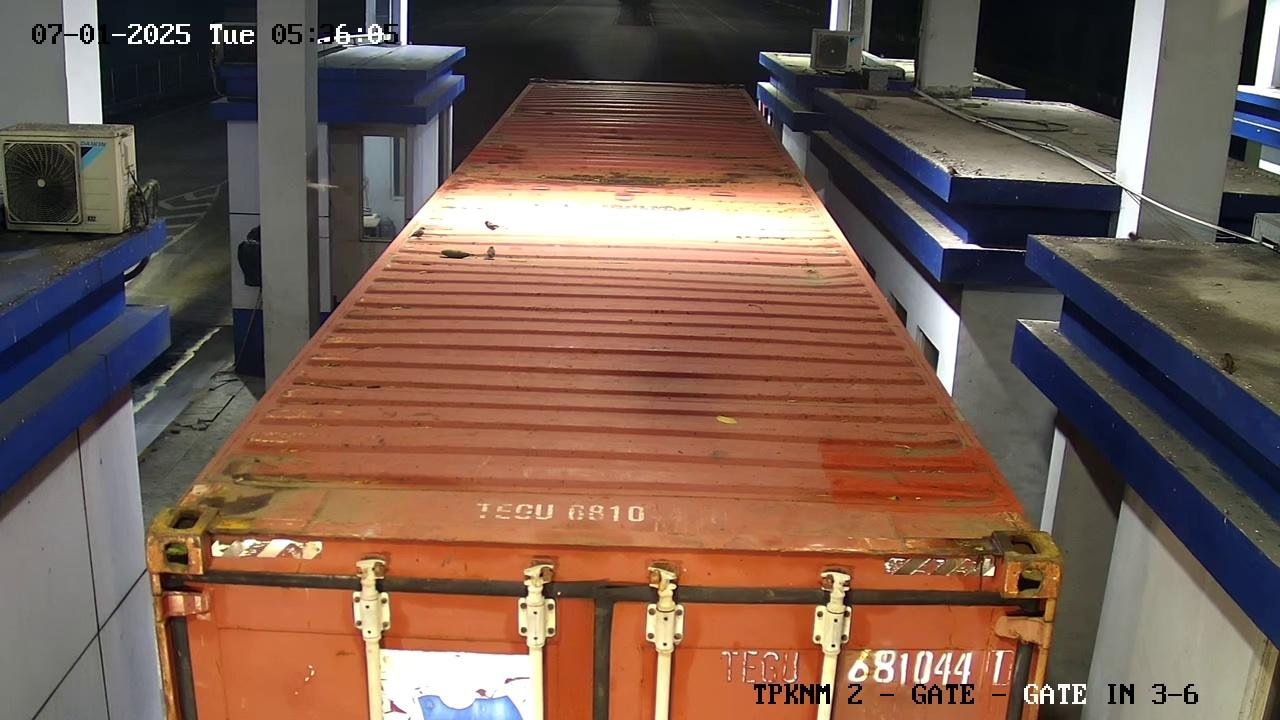Container_ID: (715, 627, 1022, 697), (464, 486, 770, 545)
